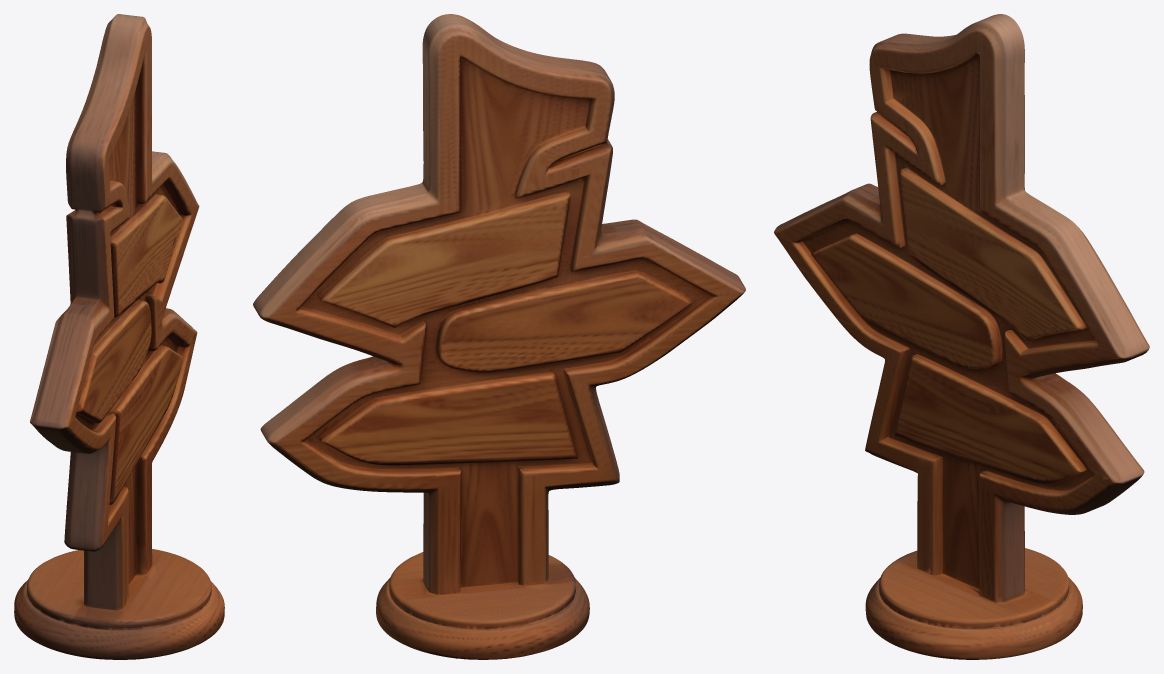
File: onestop.glb
3 views of the same model, side by side, from view 1: azimuth 30°, elevation 25°; view 2: azimuth 150°, elevation 25°; view 3: azimuth 270°, elevation 25° (orthographic). The views are drawn at different scales.
Visible parts, largest first — view 1: node_0.004; view 2: node_0.004; view 3: node_0.004.
Part boxes in pixels (x1,y1,x2,y2): node_0.004: (14,14,224,659); node_0.004: (253,14,745,659); node_0.004: (774,14,1149,659).
Size of the model in its own units: 0.1947 by 0.3373 by 0.1897.
Materials: 1 (1 with a texture image).
